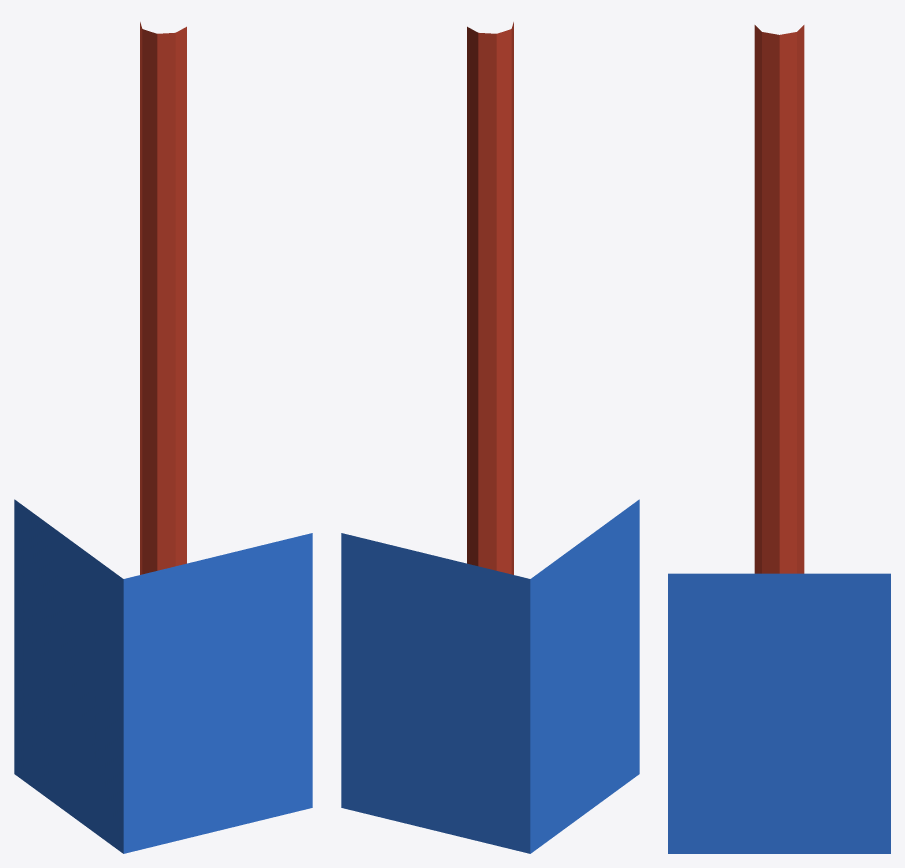
The model's file is ogre-magi.glb.
3 views of the same model, side by side, from view 1: azimuth 30°, elevation 25°; view 2: azimuth 150°, elevation 25°; view 3: azimuth 270°, elevation 25° (orthographic). The views are drawn at different scales.
Parts seen in each view (by area): view 1: ogre-magi-head, ogre-magi-handle; view 2: ogre-magi-head, ogre-magi-handle; view 3: ogre-magi-head, ogre-magi-handle.
Part boxes in pixels (bbox=[...]): ogre-magi-head: bbox=[14, 499, 312, 853]; ogre-magi-handle: bbox=[140, 22, 186, 574]; ogre-magi-head: bbox=[341, 499, 639, 853]; ogre-magi-handle: bbox=[467, 22, 513, 574]; ogre-magi-head: bbox=[668, 573, 890, 853]; ogre-magi-handle: bbox=[754, 25, 804, 573].
Size of the model in its own units: 0.36 by 1.39 by 0.36.
